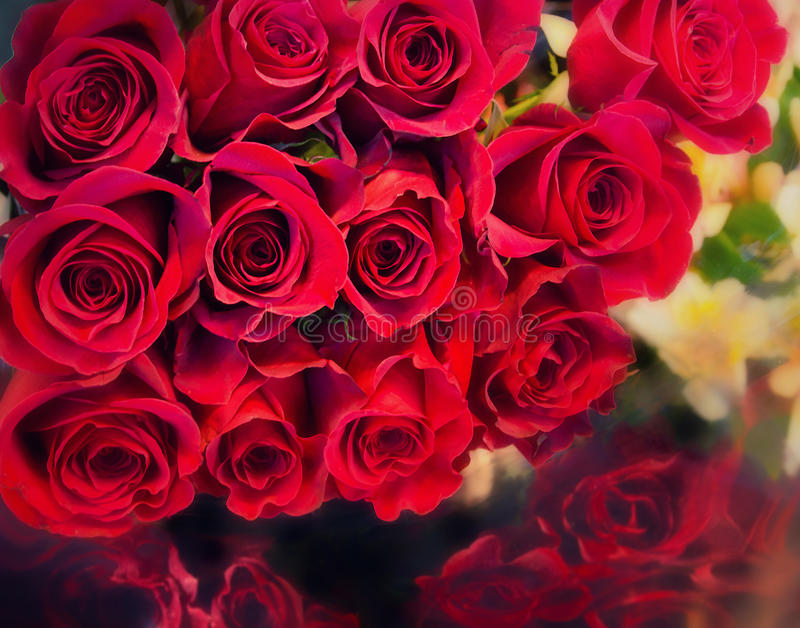RedRose: (0, 170, 225, 368), (487, 119, 700, 312), (177, 143, 354, 351), (0, 364, 225, 527), (160, 0, 380, 161), (0, 0, 181, 195), (573, 0, 780, 156), (325, 148, 481, 343), (344, 0, 547, 147), (320, 348, 487, 519), (192, 351, 349, 524), (488, 300, 626, 447)
